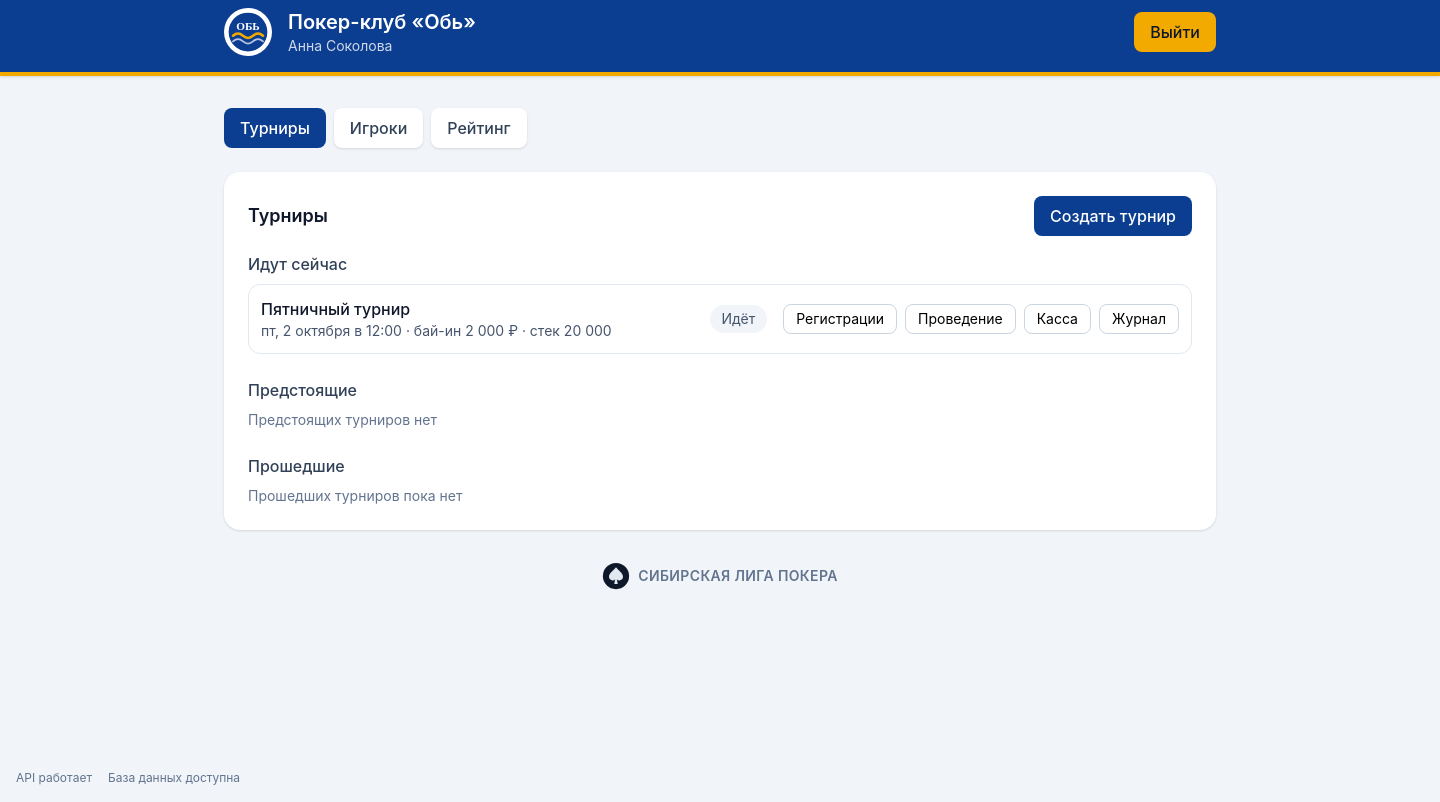
Scenario: tournament action log › names the clock adjustments and the closing of registration
The image size is (1440, 802).
Click the button "Журнал".
click(1139, 319)  # box x1=1099 y1=304 x2=1179 y2=334
(page scrolled)
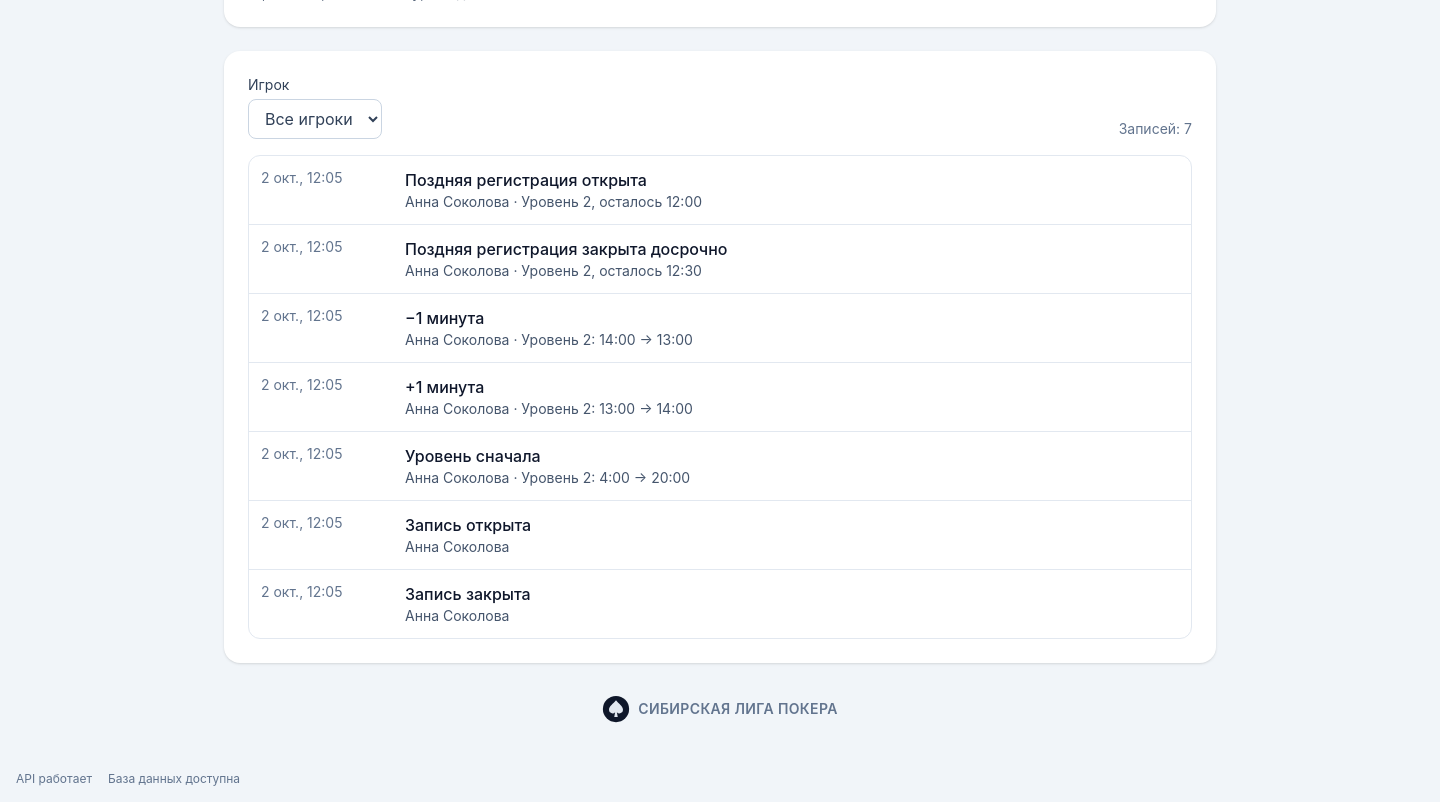
Check: the list named "Журнал действий" is shown, box x1=248 y1=155 x2=1192 y2=639
